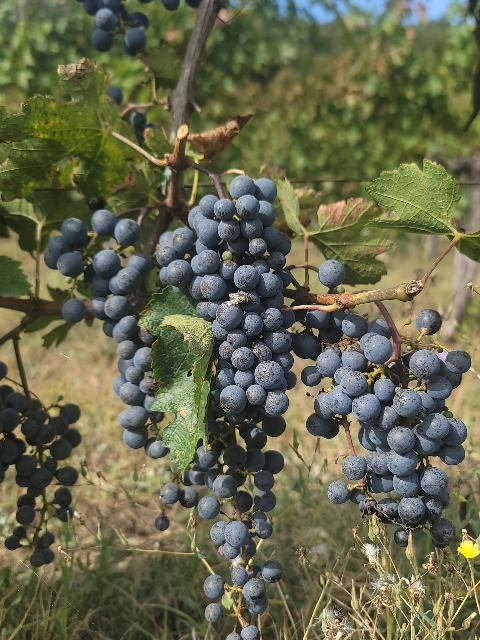grapes: (158, 175, 296, 449), (45, 218, 168, 451), (329, 349, 471, 548), (182, 415, 284, 620), (0, 385, 81, 568), (291, 310, 392, 438)
